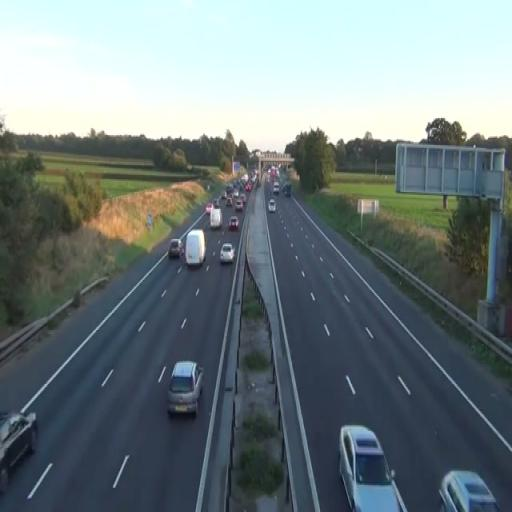Car: (338, 424, 401, 512), (437, 469, 499, 512), (166, 360, 204, 418), (220, 242, 234, 264), (168, 239, 182, 259), (210, 207, 222, 230), (228, 216, 238, 230), (273, 182, 280, 196)
Truck: (0, 408, 38, 494), (185, 230, 206, 268)
